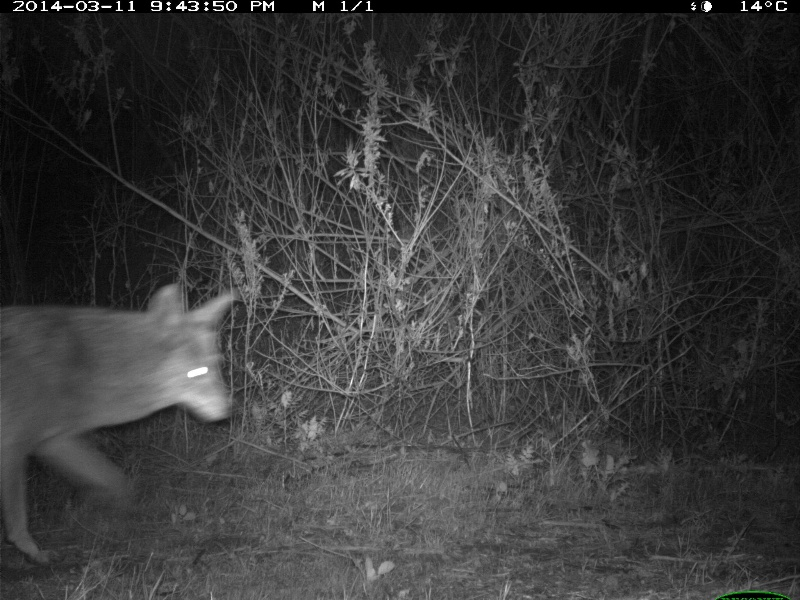coyote: (1, 274, 243, 570)
